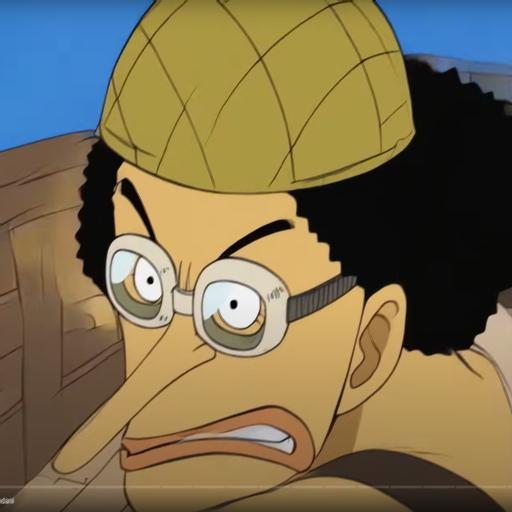Usopp: (55, 0, 511, 511)
